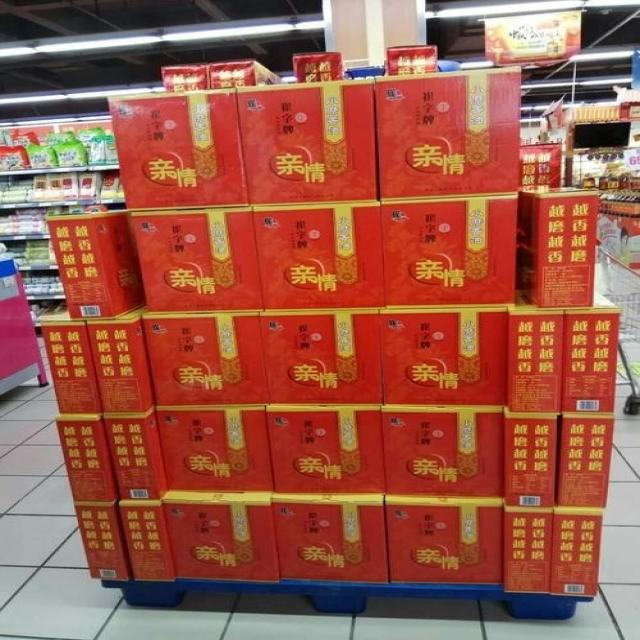box: (377, 68, 521, 201), (240, 79, 377, 206), (107, 89, 248, 209), (382, 192, 516, 308), (127, 205, 265, 313), (250, 201, 387, 309), (144, 310, 270, 408), (382, 308, 506, 407), (262, 309, 383, 406), (46, 209, 149, 319), (382, 408, 504, 500), (163, 490, 279, 582), (386, 494, 503, 584), (267, 406, 384, 494), (273, 492, 385, 583), (516, 186, 599, 307), (159, 408, 274, 495), (501, 293, 566, 413), (89, 306, 156, 414), (562, 292, 619, 414), (38, 312, 101, 416), (105, 409, 169, 501), (558, 414, 615, 508), (56, 414, 116, 500), (505, 412, 558, 506), (73, 500, 129, 581), (551, 509, 603, 596), (119, 500, 173, 582), (505, 506, 553, 592), (520, 143, 561, 191)
